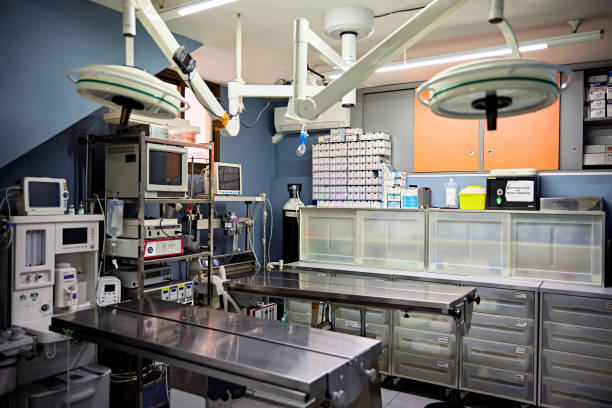bedside_monitor: (137, 143, 190, 189), (25, 178, 71, 217), (209, 159, 244, 195)
cabinet: (281, 275, 612, 408), (294, 199, 604, 283), (569, 66, 609, 175)
operating_bed: (55, 288, 383, 406), (222, 260, 478, 319)
surgical_light: (417, 59, 575, 131), (64, 65, 189, 124)
